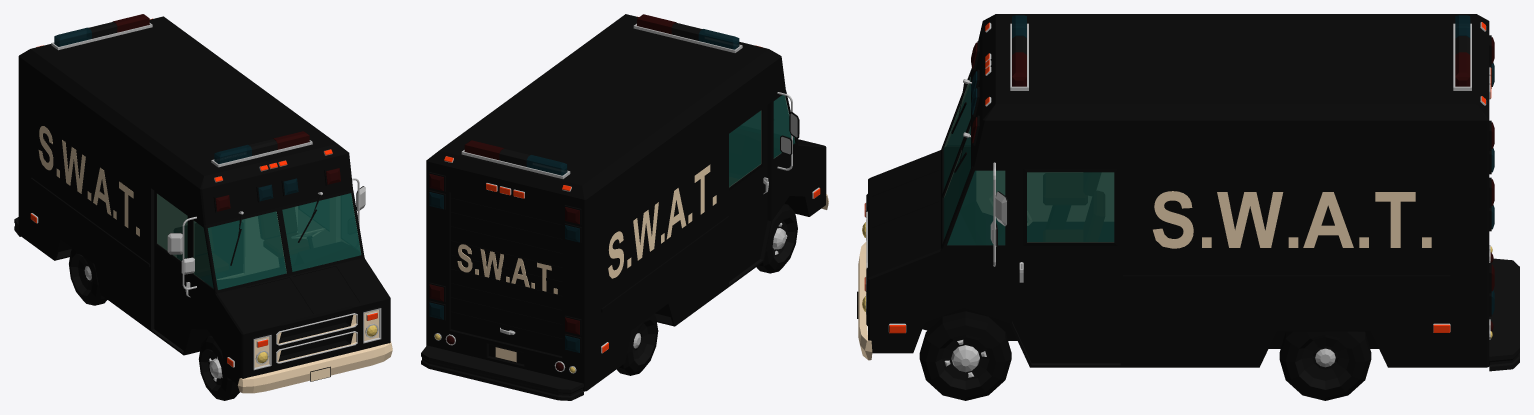
File: SWATVan_01.FBX
3 views of the same model, side by side, from view 1: azimuth 30°, elevation 25°; view 2: azimuth 150°, elevation 25°; view 3: azimuth 270°, elevation 25° (orthographic). The views are drawn at different scales.
Visible parts, largest first — view 1: SWATVan_01, interior, bumper_f, lights, wheel_f_r, signalLights_01, signalLights_02, wheel_b_r, mirror_r; view 2: SWATVan_01, bumper_b, lights, interior, signalLights_01, signalLights_02, wheel_f_r, wheel_b_r, mirror_r; view 3: SWATVan_01, interior, wheel_f_l, wheel_b_l, bumper_b, lights, signalLights_02, signalLights_01, bumper_f, mirror_l.
Part boxes in pixels (x1,y1,x2,y2): SWATVan_01: [18, 16, 390, 384]; interior: [157, 193, 360, 289]; bumper_f: [237, 341, 392, 393]; lights: [31, 18, 378, 367]; wheel_f_r: [198, 336, 239, 400]; signalLights_01: [54, 27, 298, 201]; signalLights_02: [112, 14, 340, 211]; wheel_b_r: [69, 248, 107, 305]; mirror_r: [167, 216, 196, 289]; SWATVan_01: [426, 14, 826, 391]; bumper_b: [421, 345, 583, 400]; lights: [428, 22, 819, 373]; interior: [729, 95, 794, 186]; signalLights_01: [429, 29, 739, 334]; signalLights_02: [429, 14, 676, 352]; wheel_f_r: [756, 203, 797, 273]; wheel_b_r: [617, 314, 658, 375]; mirror_r: [777, 92, 799, 170]; SWATVan_01: [866, 14, 1489, 367]; interior: [944, 78, 1113, 244]; wheel_f_l: [919, 311, 1011, 400]; wheel_b_l: [1279, 331, 1371, 400]; bumper_b: [1489, 258, 1519, 371]; lights: [865, 22, 1491, 339]; signalLights_02: [971, 37, 1494, 291]; signalLights_01: [971, 15, 1494, 314]; bumper_f: [858, 241, 872, 360]; mirror_l: [990, 162, 1008, 266].
Size of the model in its own units: 31.34 by 34.22 by 65.66.
